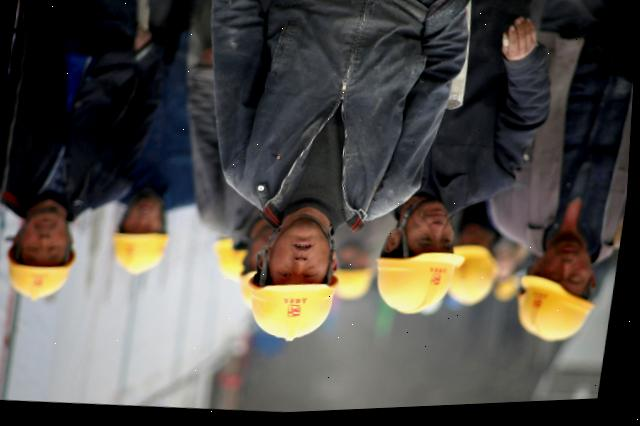helmet: (241, 264, 358, 349), (508, 272, 612, 357), (374, 243, 464, 327), (0, 241, 79, 311), (105, 218, 179, 280), (449, 248, 514, 308), (214, 237, 263, 279), (332, 262, 378, 297)
